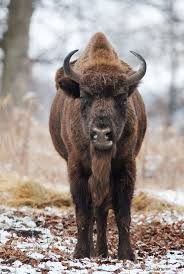zubr: (33, 24, 178, 264)
